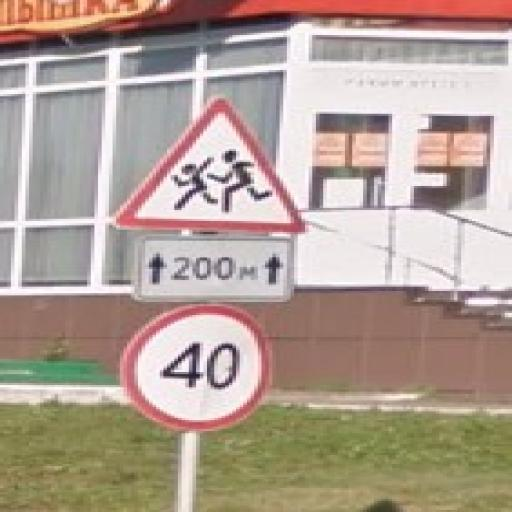traffic_sign: (114, 95, 306, 233), (121, 303, 277, 434)
